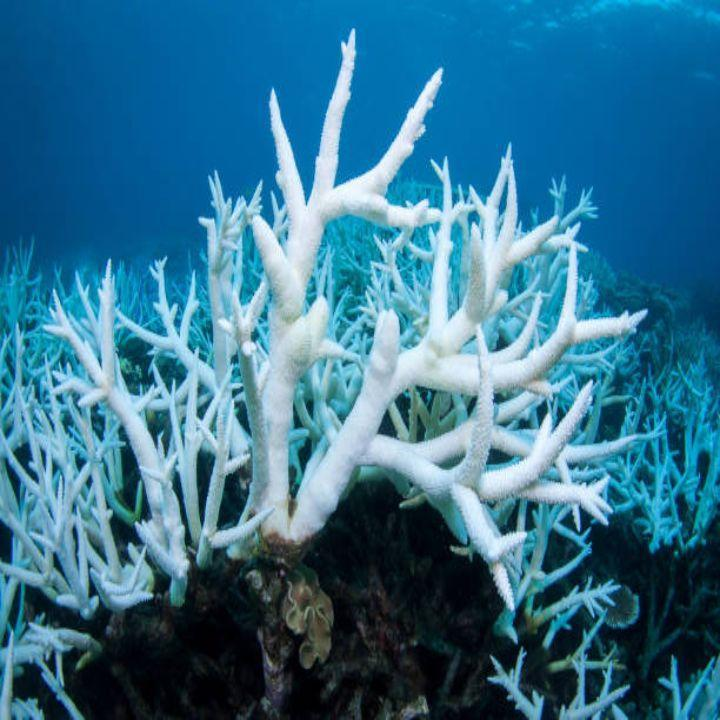Bleached disease: (0, 155, 720, 638), (485, 582, 632, 720), (0, 575, 100, 720)
